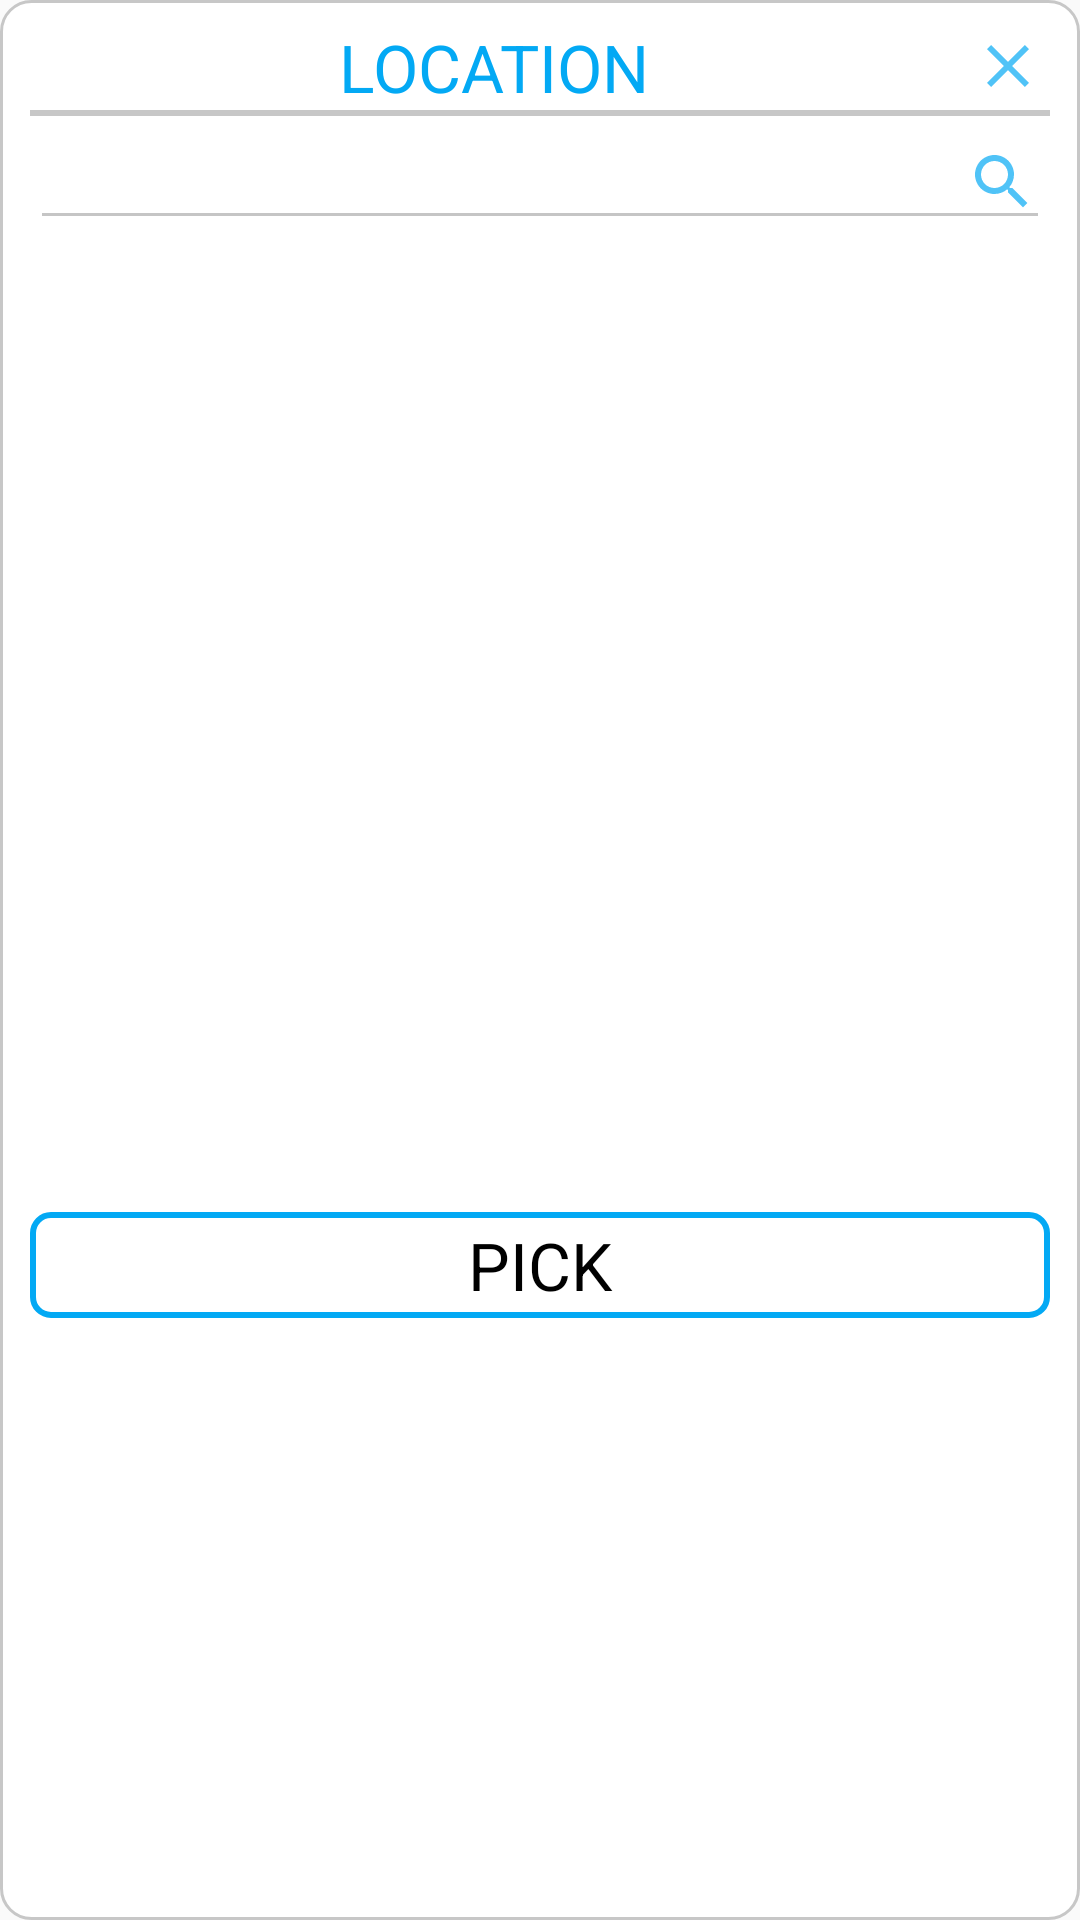

Icon bounding boxes for this 1080px×1920px phone screenshot, format (x1, y1, x2, y2):
close: (987, 45, 1029, 87)
